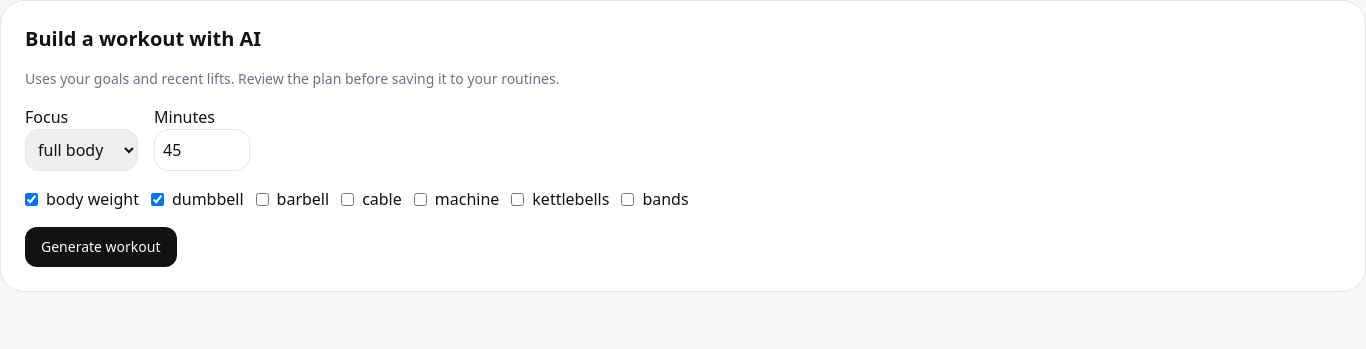
Test case: shows generation errors without presenting a save action
What coordinates should you click on to do the following:
click the button "Generate workout"
I would click on:
 (101, 247)
Its box is top-left (25, 227), bottom-right (176, 267).
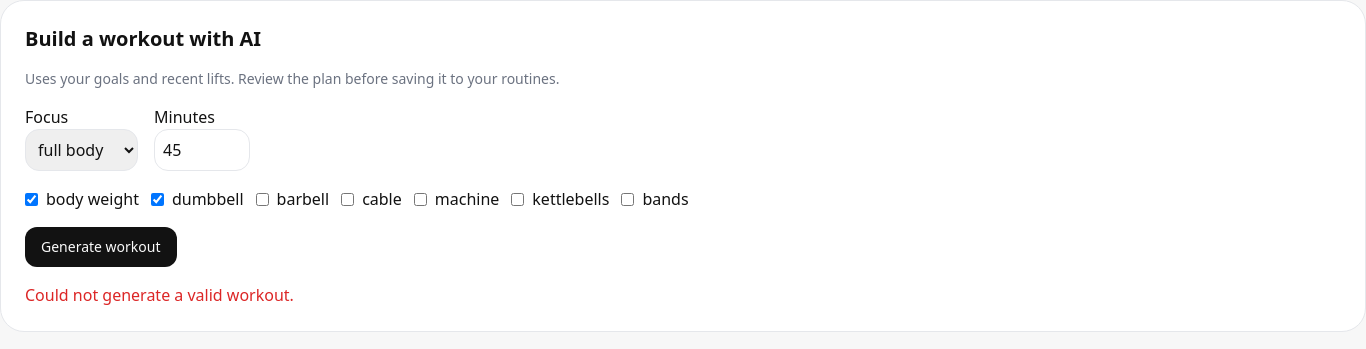
Check: the message "Could not generate a valid workout." is shown, box top-left (25, 284), bottom-right (294, 306)
